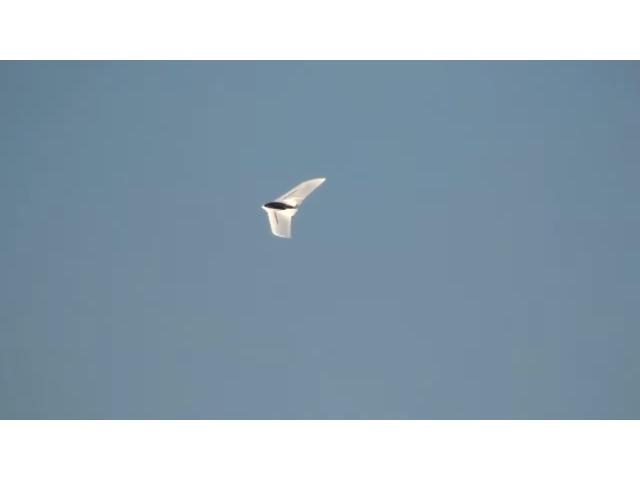Anti-Drone: (262, 179, 322, 237)
